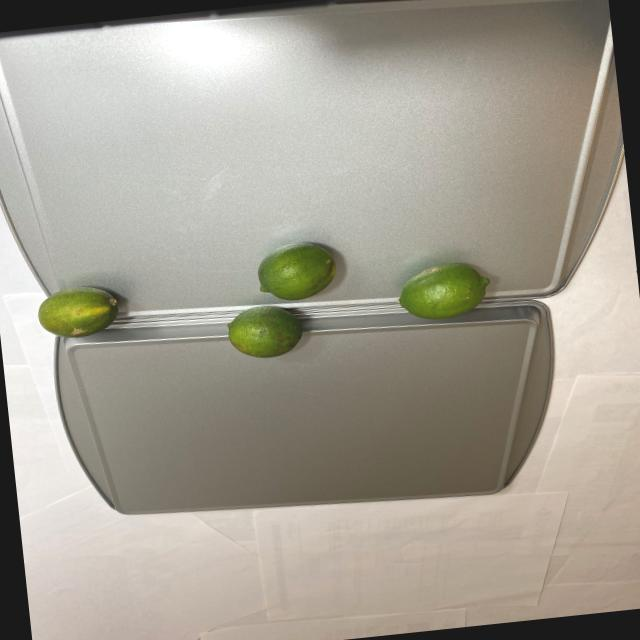lemon: (27, 225, 493, 382)
